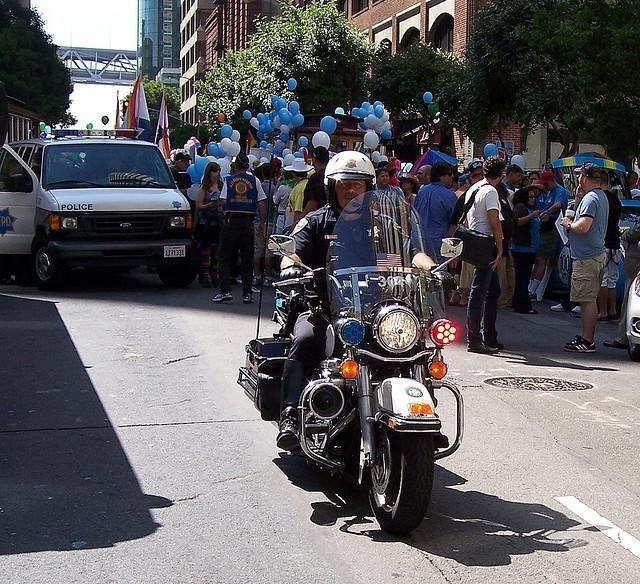car: (2, 137, 194, 286), (624, 272, 640, 358)
motorcycle: (245, 188, 461, 534)
